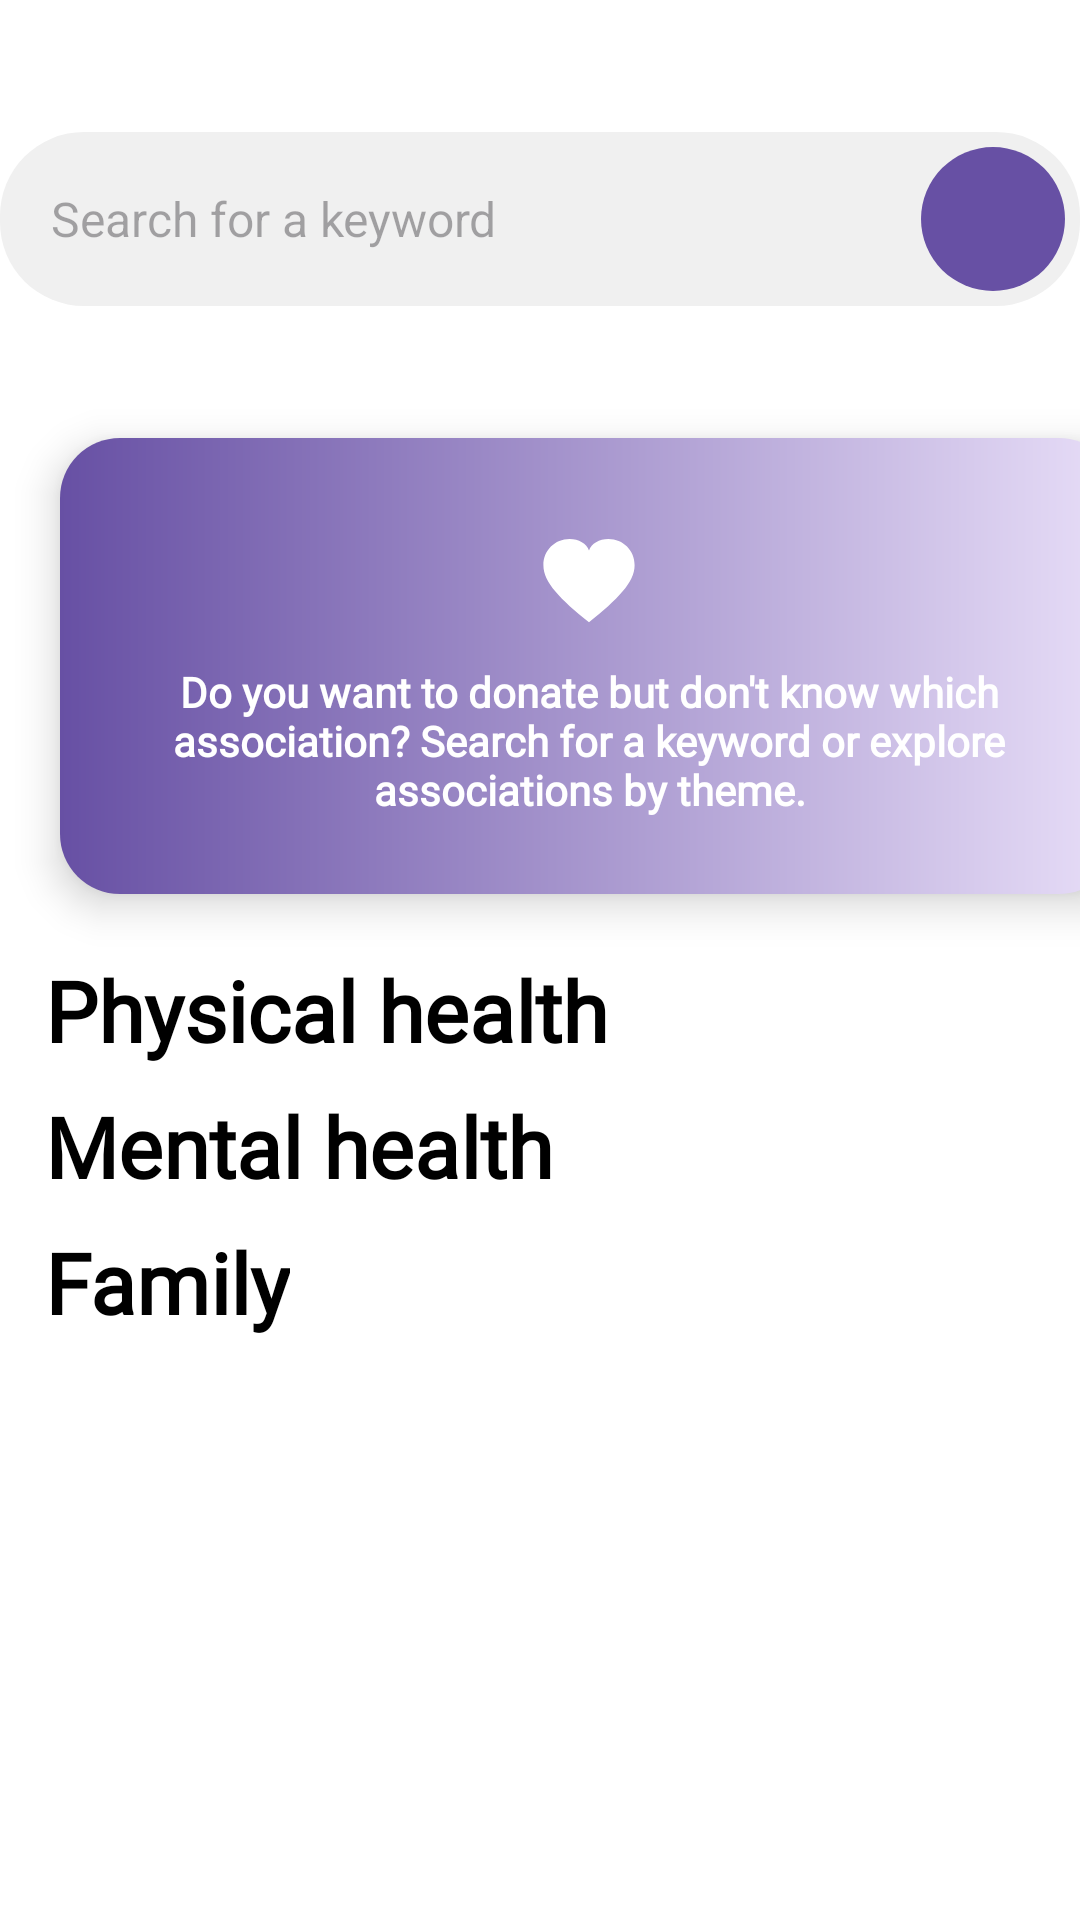

Where icons sit on this 1080 x 1920 app screen, as box=[x1, y1, x2, y2]:
Icône de cœur: box=[543, 539, 635, 622]
